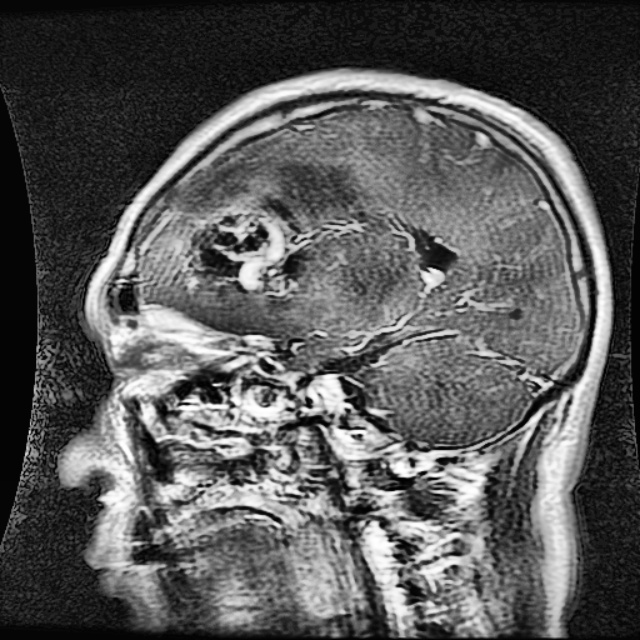Meningioma: (184, 209, 309, 289)
